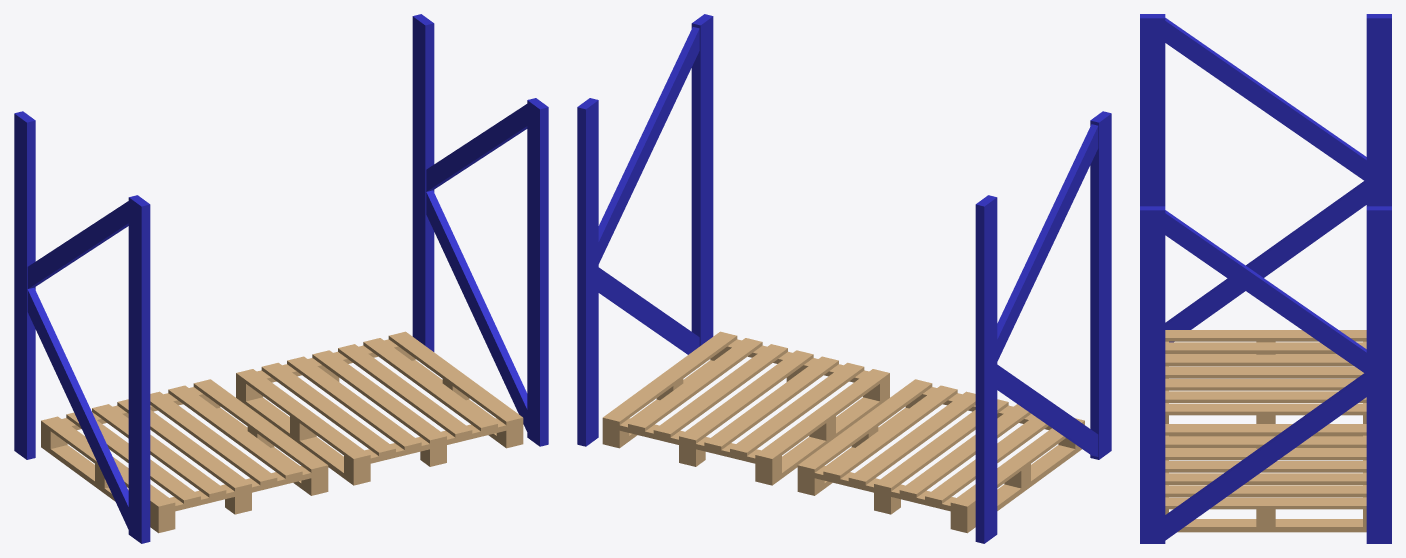
File: Longarina_Junto_2pallets_chão_pronto_1.glb
3 renders of one model, left to right at view 1: azimuth 30°, elevation 25°; view 2: azimuth 150°, elevation 25°; view 3: azimuth 270°, elevation 25°, orthographic.
Parts seen in each view (by area): view 1: Cube.002; view 2: Cube.002; view 3: Cube.002.
Part boxes in pixels (x1,y1,x2,y2): Cube.002: (14, 14, 548, 543); Cube.002: (577, 14, 1111, 543); Cube.002: (1140, 14, 1391, 543).
Size of the model in its own units: 2.4 by 1.9 by 1.3.
